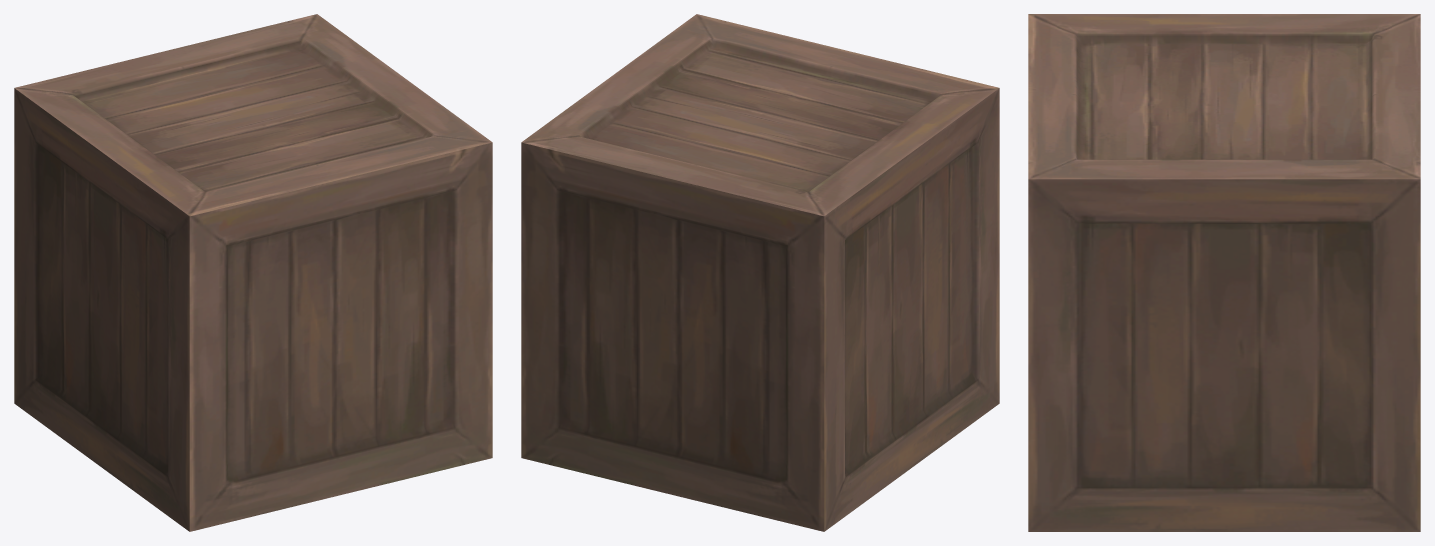
The model's file is cover.glb.
3 views of the same model, side by side, from view 1: azimuth 30°, elevation 25°; view 2: azimuth 150°, elevation 25°; view 3: azimuth 270°, elevation 25° (orthographic). The views are drawn at different scales.
Parts seen in each view (by area): view 1: Prop_9_CrateA_LOD0; view 2: Prop_9_CrateA_LOD0; view 3: Prop_9_CrateA_LOD0.
Boxes of the visible parts, bbox=[...] form: Prop_9_CrateA_LOD0: bbox=[14, 14, 492, 531]; Prop_9_CrateA_LOD0: bbox=[521, 14, 999, 531]; Prop_9_CrateA_LOD0: bbox=[1028, 14, 1420, 531].
Size of the model in its own units: 2.03 by 2.02 by 2.04.
1 material, 1 textured.
